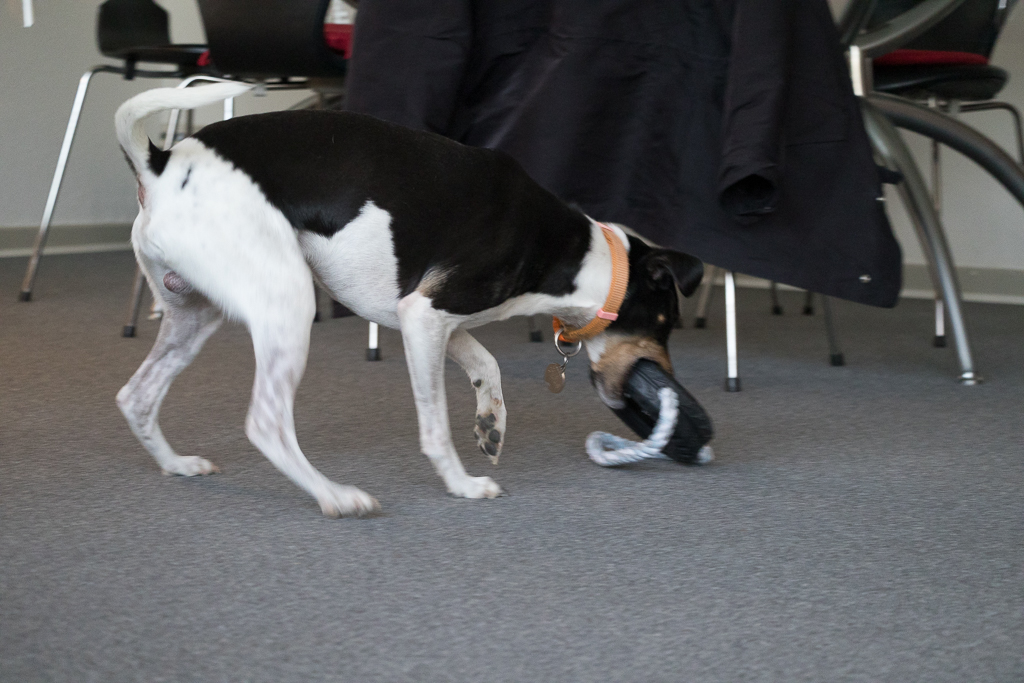Dog: (104, 68, 715, 527)
